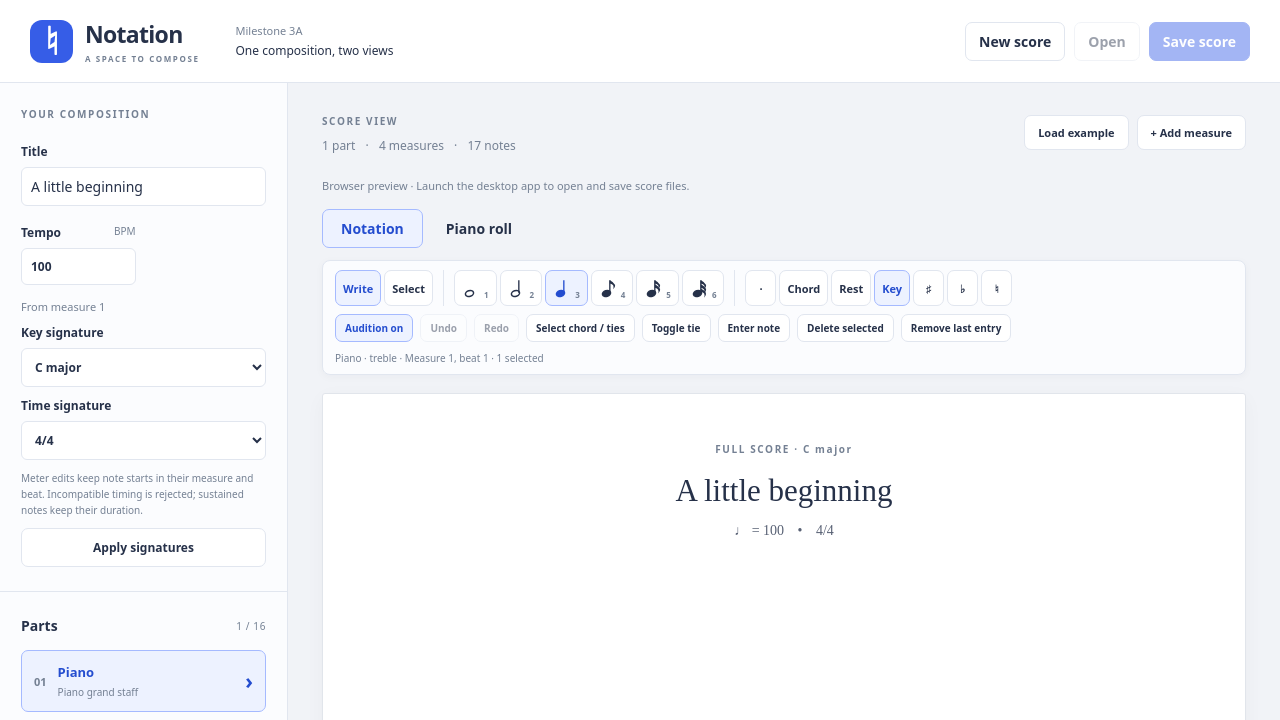
Test: score workspace › creates a score, edits metadata, and advances note entry across barlines
Click the button "New score". click: (1015, 41)
box: [965,22,1065,60]
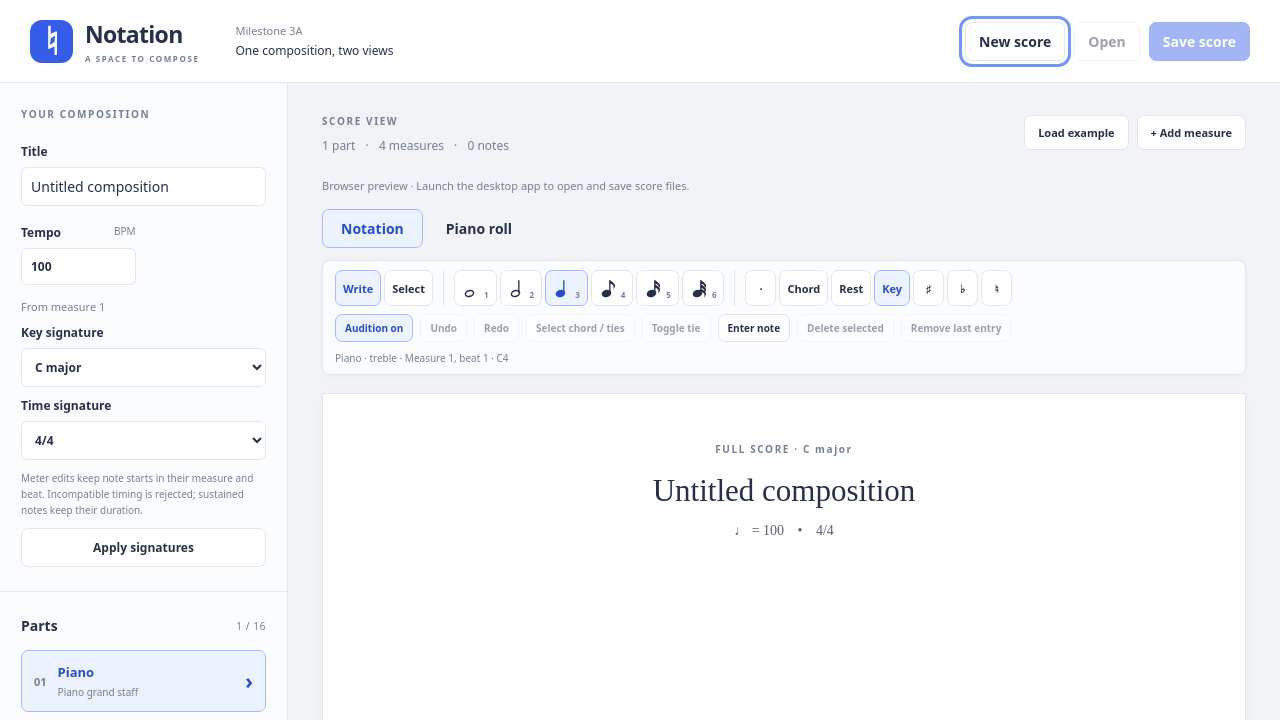
Replace the text in the field labelled "Title" with "First melody". click: (144, 186)
box: [21,167,266,206]
Then press Enter
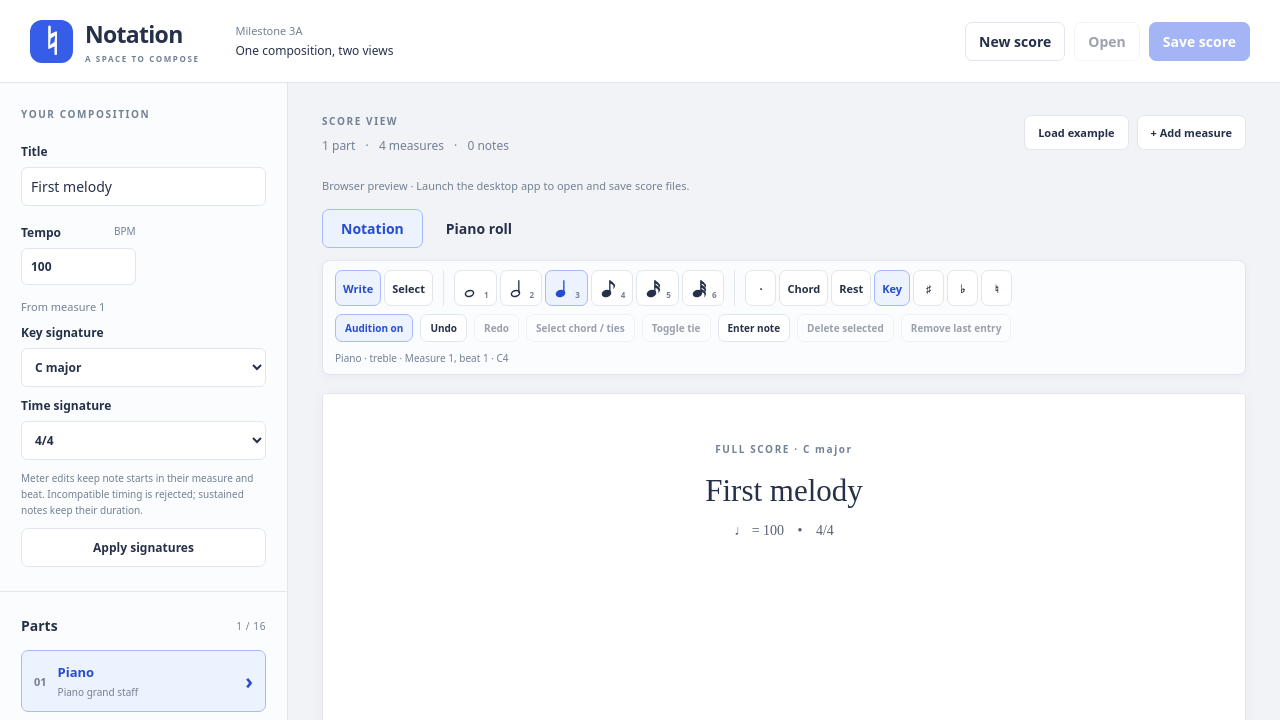
Click the button named "Whole duration". click: (475, 288)
box: [454,270,497,306]
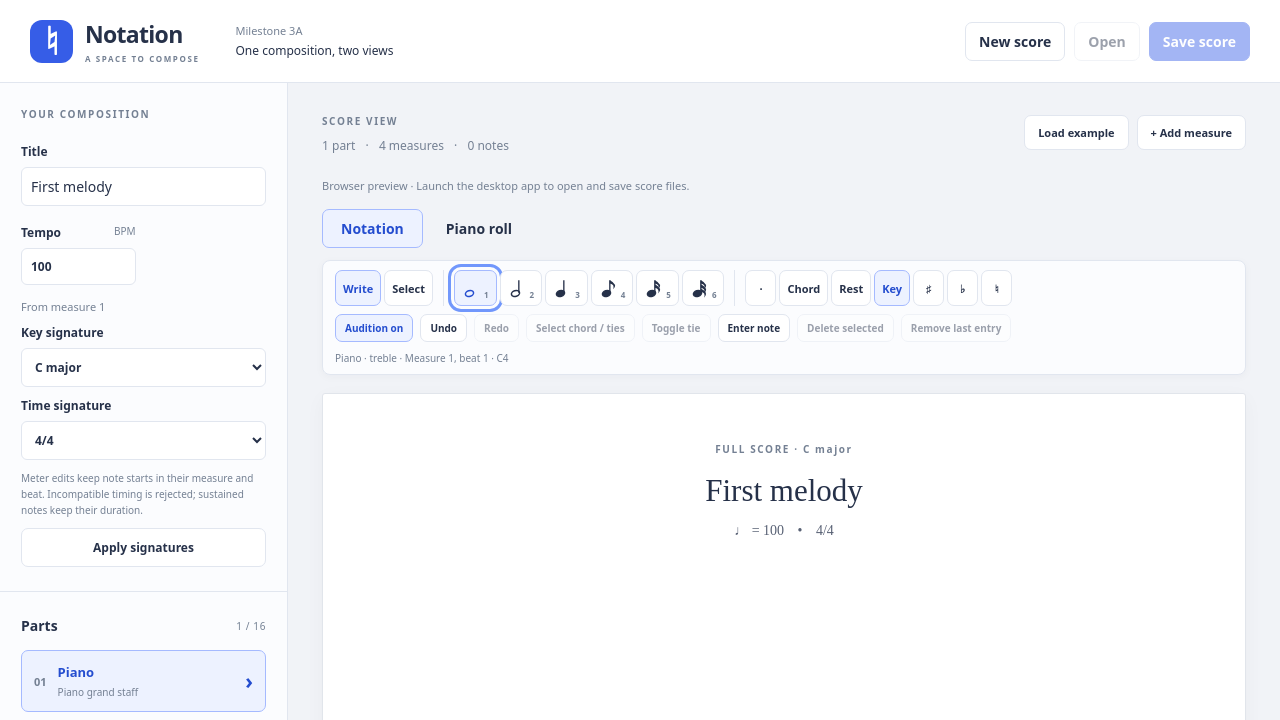
Click the button "Enter note". click: (754, 328)
box: [718,314,790,342]
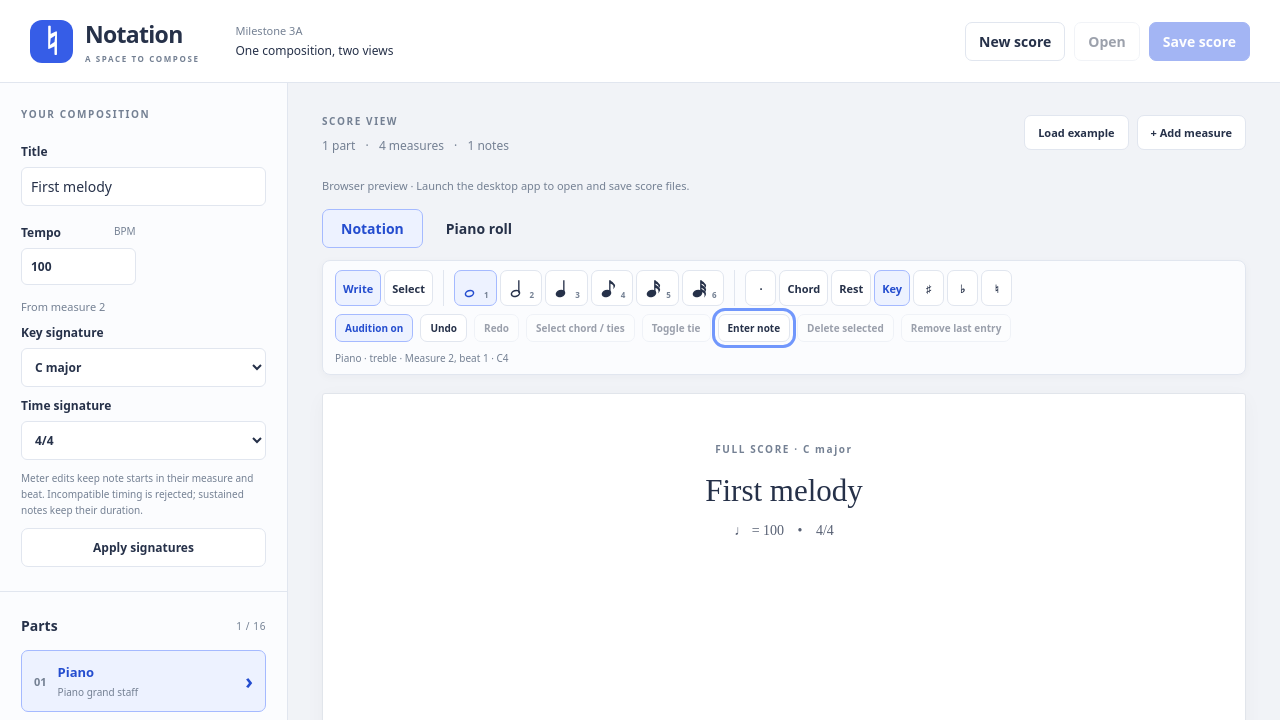
Expected: the text "1 part · 4 measures · 1 notes" is shown, [322,137,509,154]
Click the button "Enter note". click: (754, 328)
box: [718,314,790,342]
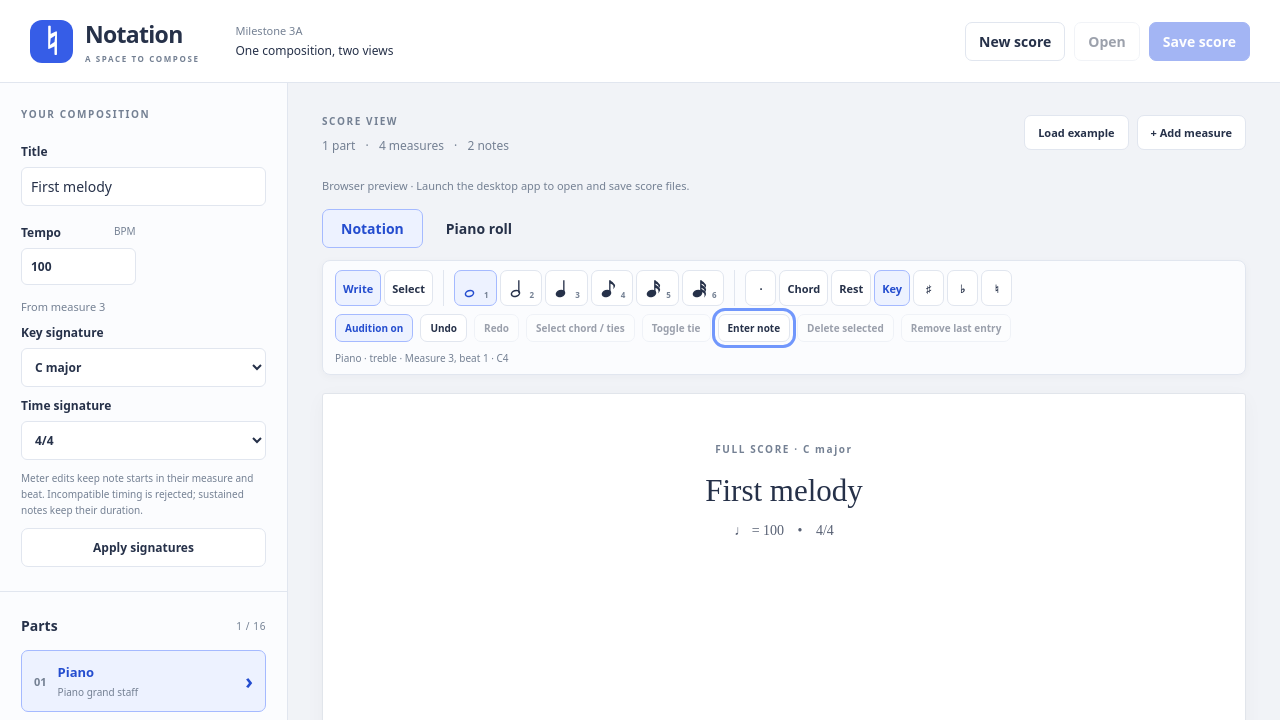
Expected: the button "Remove last entry" is disabled, [901,314,1011,342]
Expected: the text "1 part · 4 measures · 2 notes" is shown, [322,137,509,154]
Expected: the text "Piano · treble · Measure 3, beat 1 · C4" is shown, [335,351,509,365]
